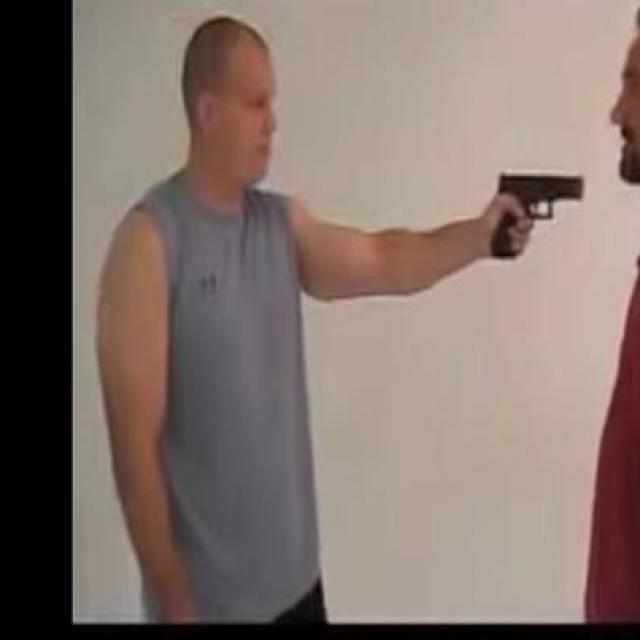weapon: (488, 170, 587, 262)
